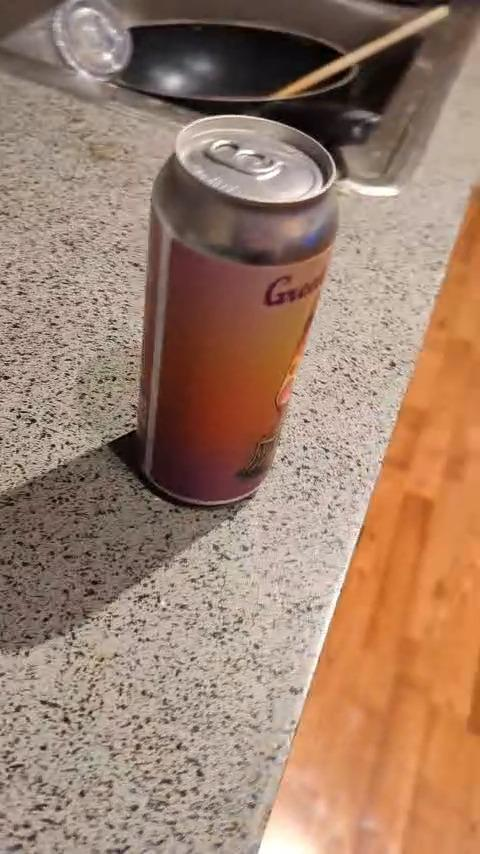metal: (138, 115, 339, 505)
